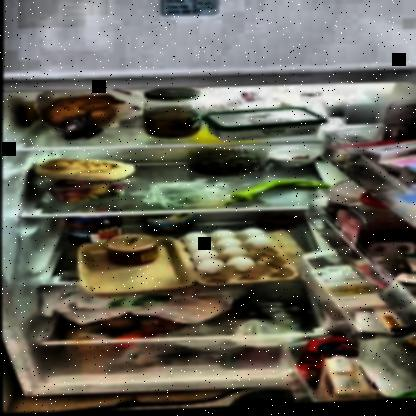cream_cheese: (205, 110, 321, 142)
eggs: (185, 231, 270, 276)
green_chillies: (232, 180, 325, 203)
milk: (320, 360, 380, 404)
olives: (189, 153, 267, 178)
red_onion: (60, 116, 100, 139)
